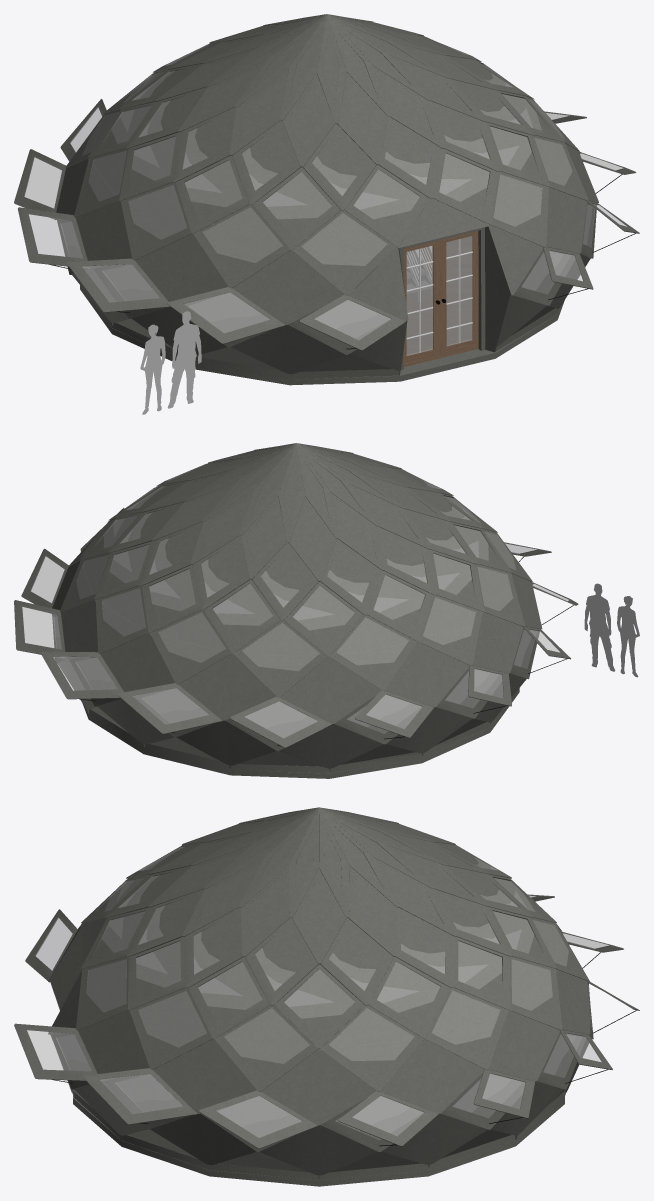
The model's file is zomes-500-draco.glb.
The picture shows the model from 3 angles, top to bottom: view 1: azimuth 30°, elevation 25°; view 2: azimuth 150°, elevation 25°; view 3: azimuth 270°, elevation 25°; orthographic projection. The views are drawn at different scales.
Visible parts, largest first — view 1: maindoor, entry-center-C-10, panel-M14-D-1, panel-M14-E-1, foundation, window-glass-M14-E-1, window-glass-M14-C-3_open, panel-M14-E-2, window-glass-M14-C-2_open, window-glass-M14-E-2, panel-M14-D-2, entry-center-C-4 (+93 smaller); view 2: entry-center-C-6, entry-center-C-7, entry-center-C-5, maindoor, entry-center-C-4, panel-M14-E-6, window-glass-M14-C-7_open, panel-M14-E-5, window-glass-M14-E-6, window-glass-M14-C-8_open, panel-M14-E-7, window-glass-M14-E-5 (+99 smaller); view 3: maindoor, entry-center-C-10, entry-center-C-9, panel-M14-E-11, window-glass-M14-C-12_open, panel-M14-E-10, window-glass-M14-E-10, window-glass-M14-C-11_open, panel-M14-D-11, window-glass-M14-E-11, window-glass-M14-C-13_open, panel-M14-E-12 (+100 smaller).
Part boxes in pixels (<box>): maindoor: <box>72,198,590,379</box>; entry-center-C-10: <box>407,236,471,355</box>; panel-M14-D-1: <box>234,250,343,324</box>; panel-M14-E-1: <box>299,213,395,294</box>; foundation: <box>80,285,564,385</box>; window-glass-M14-E-1: <box>292,210,396,295</box>; window-glass-M14-C-3_open: <box>67,258,170,312</box>; panel-M14-E-2: <box>196,206,289,287</box>; window-glass-M14-C-2_open: <box>167,287,284,343</box>; window-glass-M14-E-2: <box>193,204,290,288</box>; panel-M14-D-2: <box>136,233,228,301</box>; entry-center-C-4: <box>57,148,557,377</box>; entry-center-C-6: <box>176,653,421,770</box>; entry-center-C-7: <box>97,633,328,772</box>; entry-center-C-5: <box>279,615,490,770</box>; maindoor: <box>85,678,526,773</box>; entry-center-C-4: <box>89,595,525,771</box>; panel-M14-E-6: <box>239,623,325,697</box>; window-glass-M14-C-7_open: <box>118,683,222,733</box>; panel-M14-E-5: <box>333,620,415,690</box>; window-glass-M14-E-6: <box>233,620,326,697</box>; window-glass-M14-C-8_open: <box>40,651,123,701</box>; panel-M14-E-7: <box>151,613,229,683</box>; window-glass-M14-E-5: <box>330,615,416,690</box>; maindoor: <box>48,917,588,1180</box>; entry-center-C-10: <box>260,1038,513,1179</box>; entry-center-C-9: <box>351,1010,562,1171</box>; panel-M14-E-11: <box>217,1005,317,1091</box>; window-glass-M14-C-12_open: <box>83,1068,197,1124</box>; panel-M14-E-10: <box>329,1009,421,1091</box>; window-glass-M14-E-10: <box>320,1005,423,1091</box>; window-glass-M14-C-11_open: <box>199,1090,317,1148</box>; panel-M14-D-11: <box>153,1038,256,1113</box>; window-glass-M14-E-11: <box>214,1005,317,1091</box>; window-glass-M14-C-13_open: <box>14,1023,101,1083</box>; panel-M14-E-12: <box>135,987,212,1069</box>.
Bounding box in the file's own units: 10.87 × 5.03 × 10.45.
Materials: 12 (6 with a texture image).
